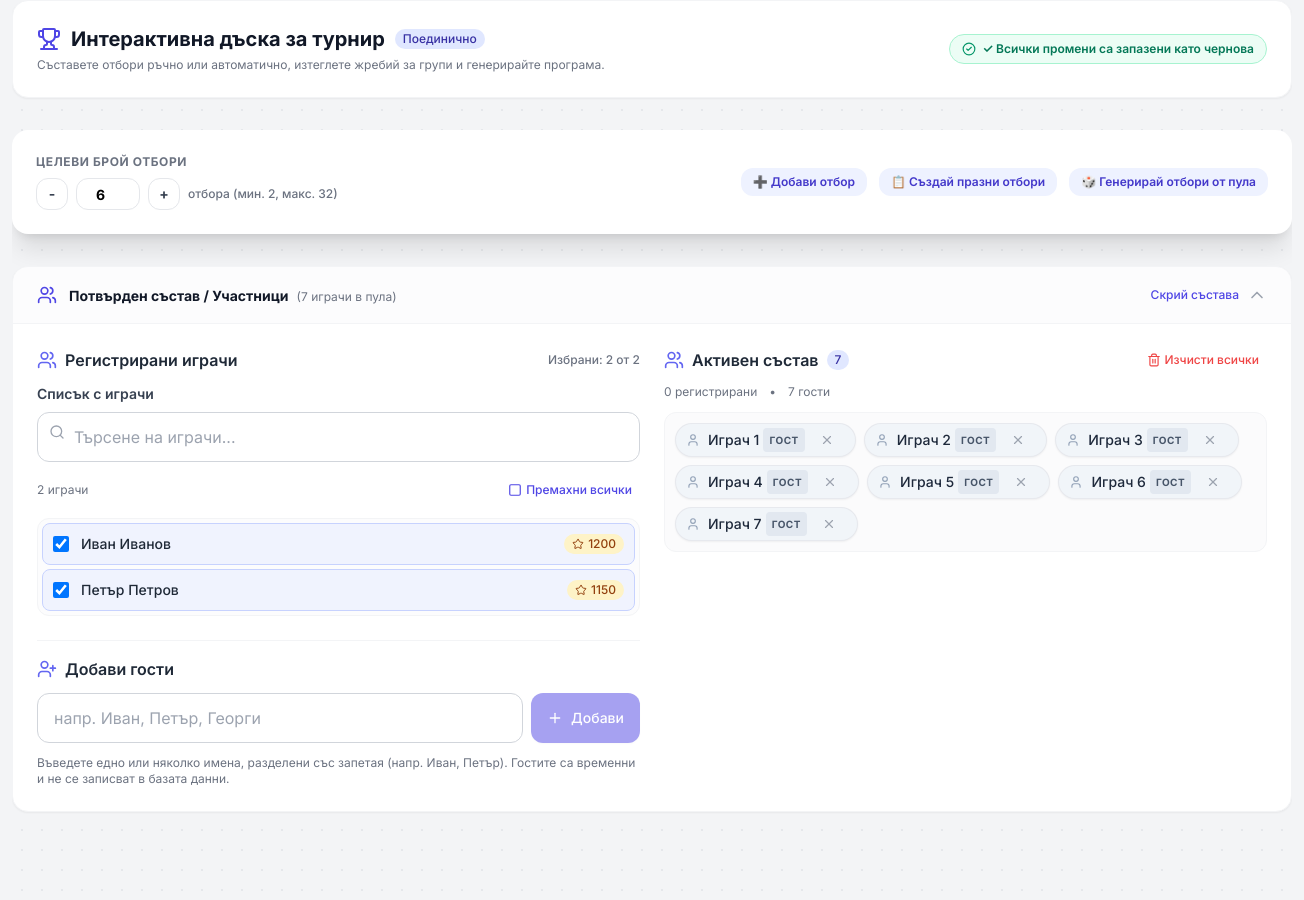
Test: TournamentInteractiveBoard Component › Universal Mathematical Validation & Auto-Adjustment › Singles mode: P = 7, T = 6 (Case 2): generates 6 full teams of 1 player with 1 reserve banner
Click the button "🎲 Генерирай отбори от пула": [1169, 182] box [1069,168,1268,196]
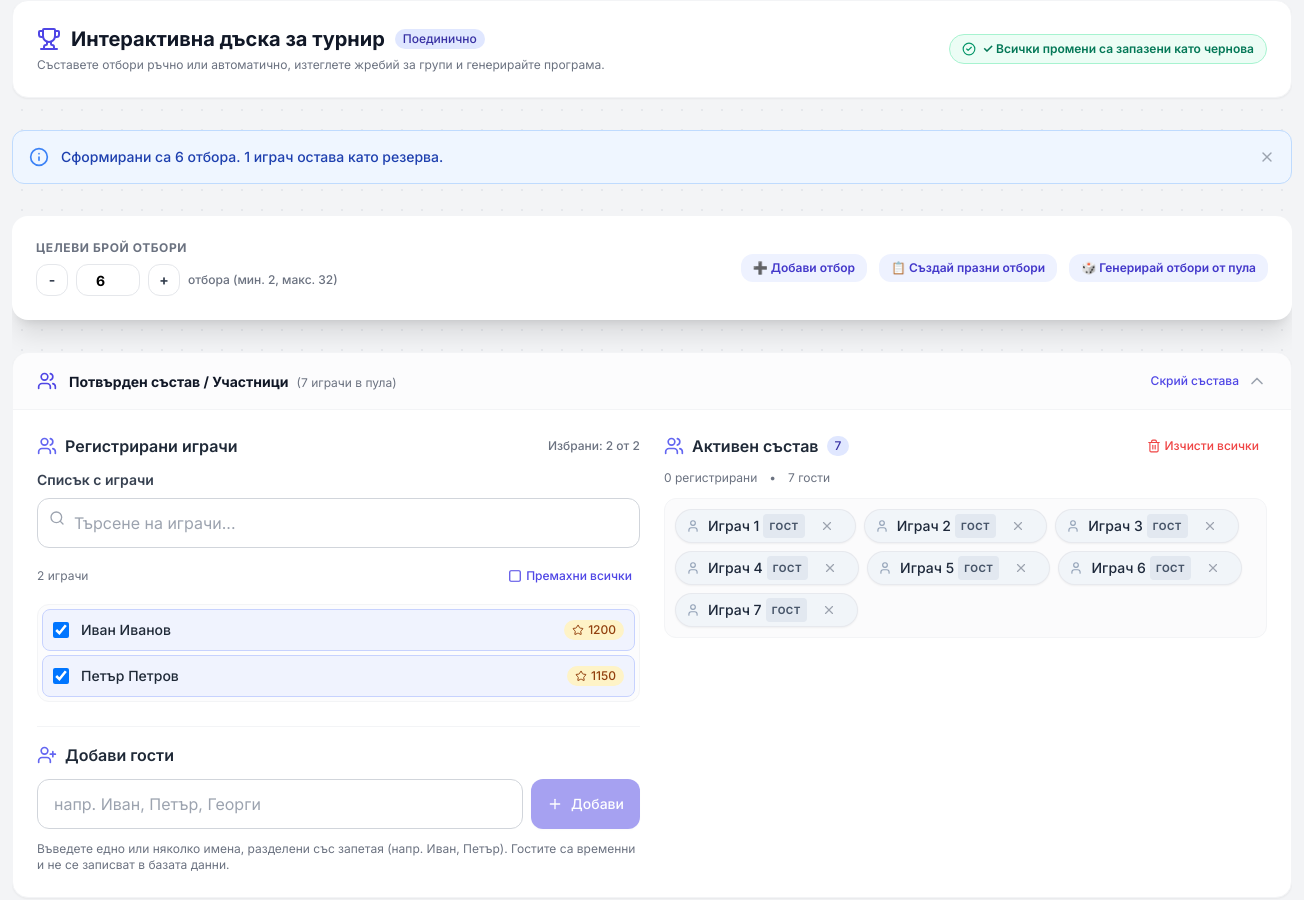
Now the text "Сформирани са 6 отбора. 1 играч остава като резерва." is shown, box [61,148,443,165]
